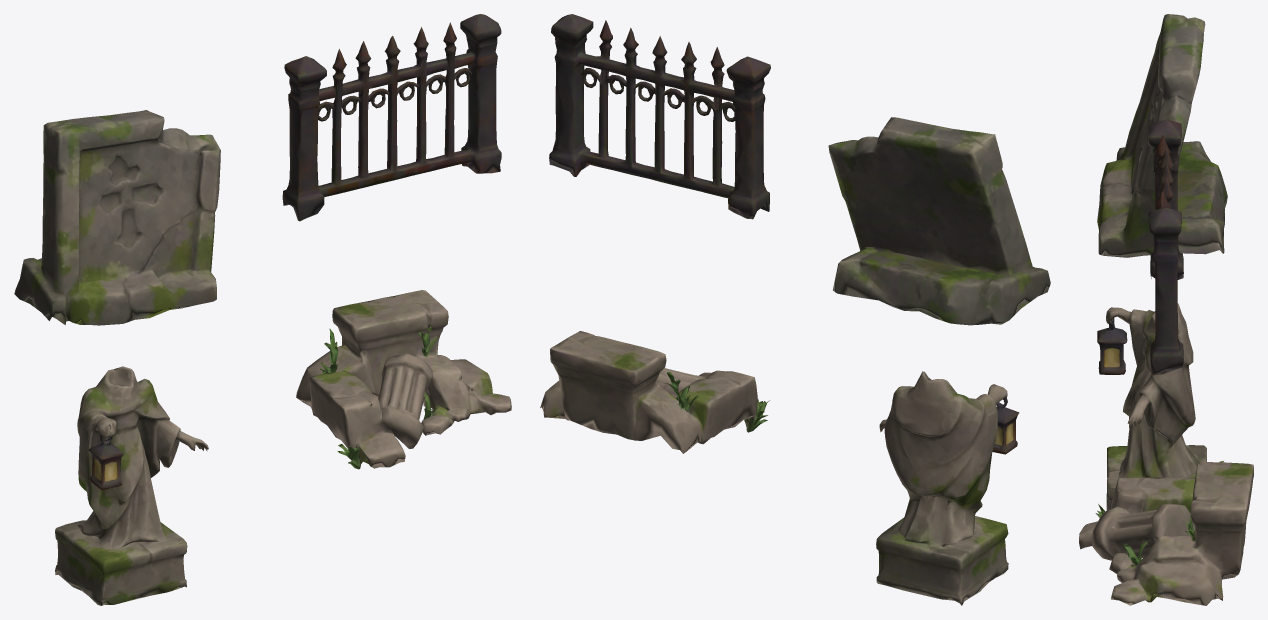
3 renders of one model, left to right at view 1: azimuth 30°, elevation 25°; view 2: azimuth 150°, elevation 25°; view 3: azimuth 270°, elevation 25°, orthographic. The views are drawn at different scales.
Parts seen in each view (by area): view 1: world; view 2: world; view 3: world.
Boxes of the visible parts, left/top/right/bottom form: world: left=14, top=14, right=511, bottom=605; world: left=540, top=14, right=1050, bottom=605; world: left=1079, top=14, right=1253, bottom=605.
Bounding box in the file's own units: 0.9987 × 0.9751 × 0.3145.
Materials: 1 (1 with a texture image).
